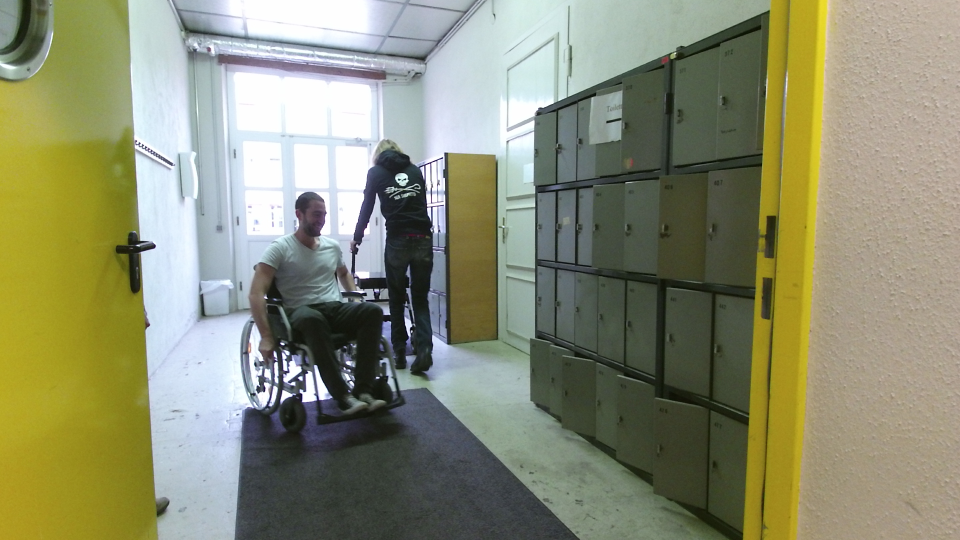wheelchair: (232, 185, 411, 431)
